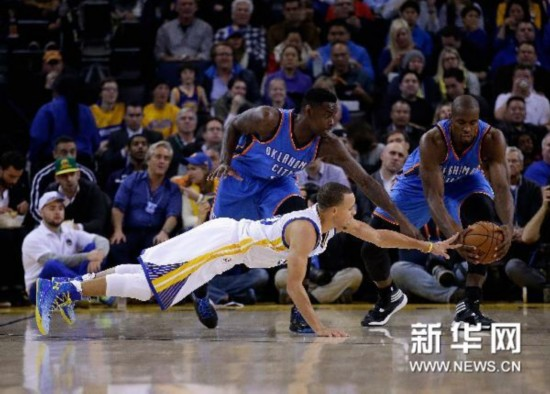10+: (1, 1, 548, 335)
down: (22, 187, 463, 334)
